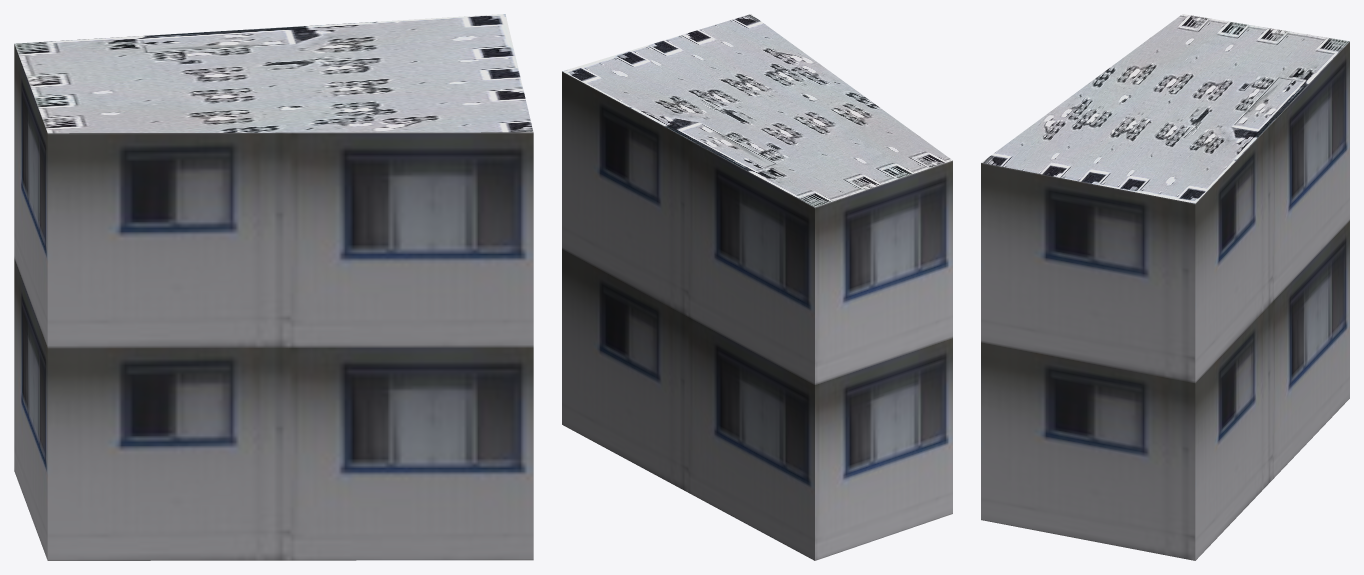
File: ResTex__4900.fbx
3 renders of one model, left to right at view 1: azimuth 30°, elevation 25°; view 2: azimuth 150°, elevation 25°; view 3: azimuth 270°, elevation 25°, orthographic. The views are drawn at different scales.
Visible parts, largest first — view 1: CityEngineMaterial_9_m, CityEngineMaterial_4_m; view 2: CityEngineMaterial_9_m, CityEngineMaterial_4_m; view 3: CityEngineMaterial_9_m, CityEngineMaterial_4_m.
Boxes of the visible parts, x1,y1,x2,y2 form: CityEngineMaterial_9_m: (14,44,533,560); CityEngineMaterial_4_m: (14,14,533,133); CityEngineMaterial_9_m: (562,71,952,560); CityEngineMaterial_4_m: (562,14,952,207); CityEngineMaterial_9_m: (981,41,1349,560); CityEngineMaterial_4_m: (981,14,1349,203).
Bounding box in the file's own units: 6.83 × 6 × 5.61.
Materials: 2 (2 with a texture image).
